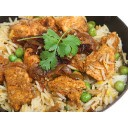briyani: (1, 16, 127, 109)
